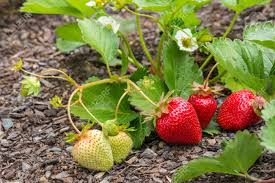Fresa: (150, 95, 205, 148), (216, 88, 266, 133), (184, 84, 217, 134)
